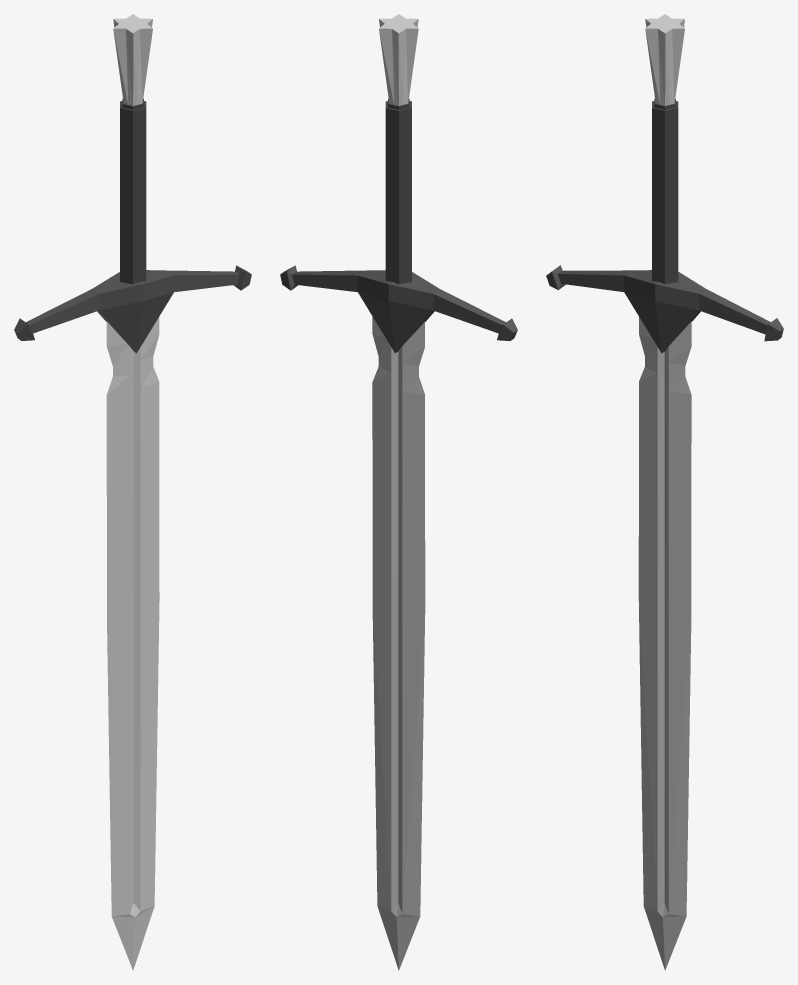
The model's file is Char_GT_TwoHandSword.FBX.
The picture shows the model from 3 angles, left to right: view 1: azimuth 30°, elevation 25°; view 2: azimuth 150°, elevation 25°; view 3: azimuth 330°, elevation 25°; orthographic projection.
Parts seen in each view (by area): view 1: TwoHandedSword; view 2: TwoHandedSword; view 3: TwoHandedSword.
Boxes of the visible parts, x1=… form: TwoHandedSword: x1=14, y1=14, x2=251, y2=970; TwoHandedSword: x1=280, y1=14, x2=517, y2=970; TwoHandedSword: x1=546, y1=14, x2=783, y2=970.
Bounding box in the file's own units: 31.14 × 121 × 4.6.
